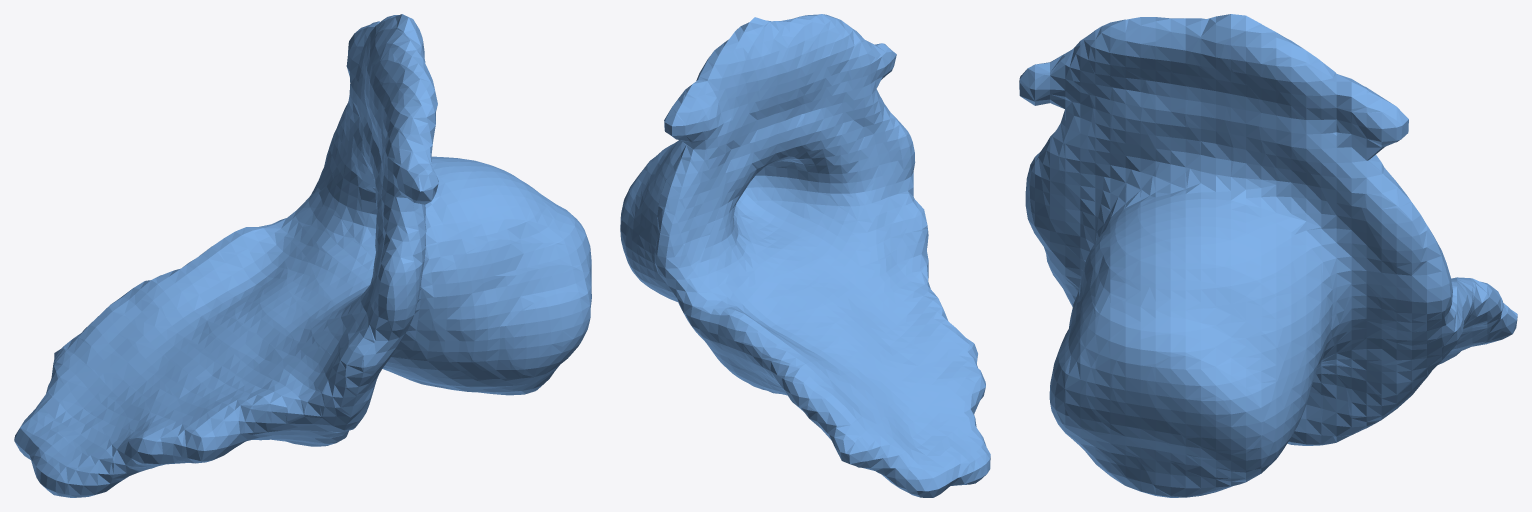
Rendered from water_0024.glb.
3 renders of one model, left to right at view 1: azimuth 30°, elevation 25°; view 2: azimuth 150°, elevation 25°; view 3: azimuth 270°, elevation 25°, orthographic. The views are drawn at different scales.
Parts seen in each view (by area): view 1: Water_0024; view 2: Water_0024; view 3: Water_0024.
Part boxes in pixels (left/top/right/bottom): Water_0024: left=14, top=14, right=591, bottom=497; Water_0024: left=620, top=14, right=990, bottom=497; Water_0024: left=1019, top=14, right=1517, bottom=497.
Bounding box in the file's own units: 2.49 × 2.2 × 1.93.
